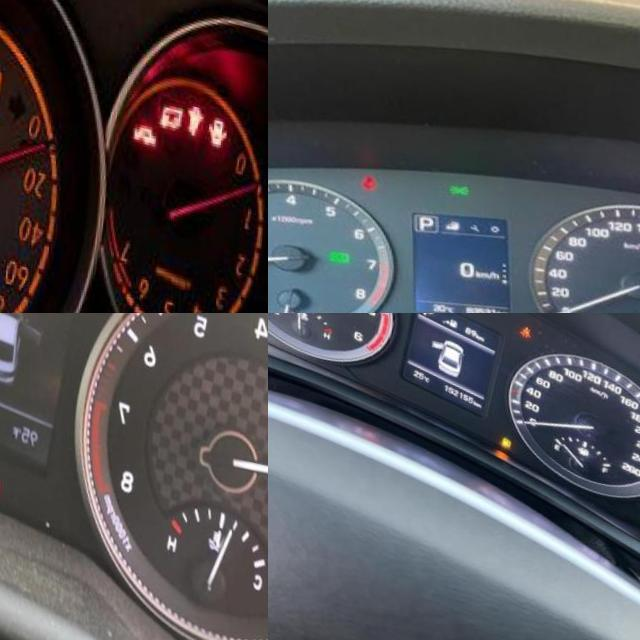Seat Belt: (366, 161, 383, 182), (522, 313, 535, 318)
